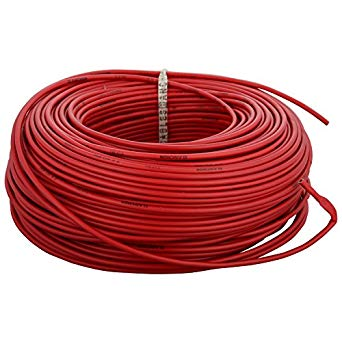Nonrec_Tangler: (10, 63, 341, 275)
